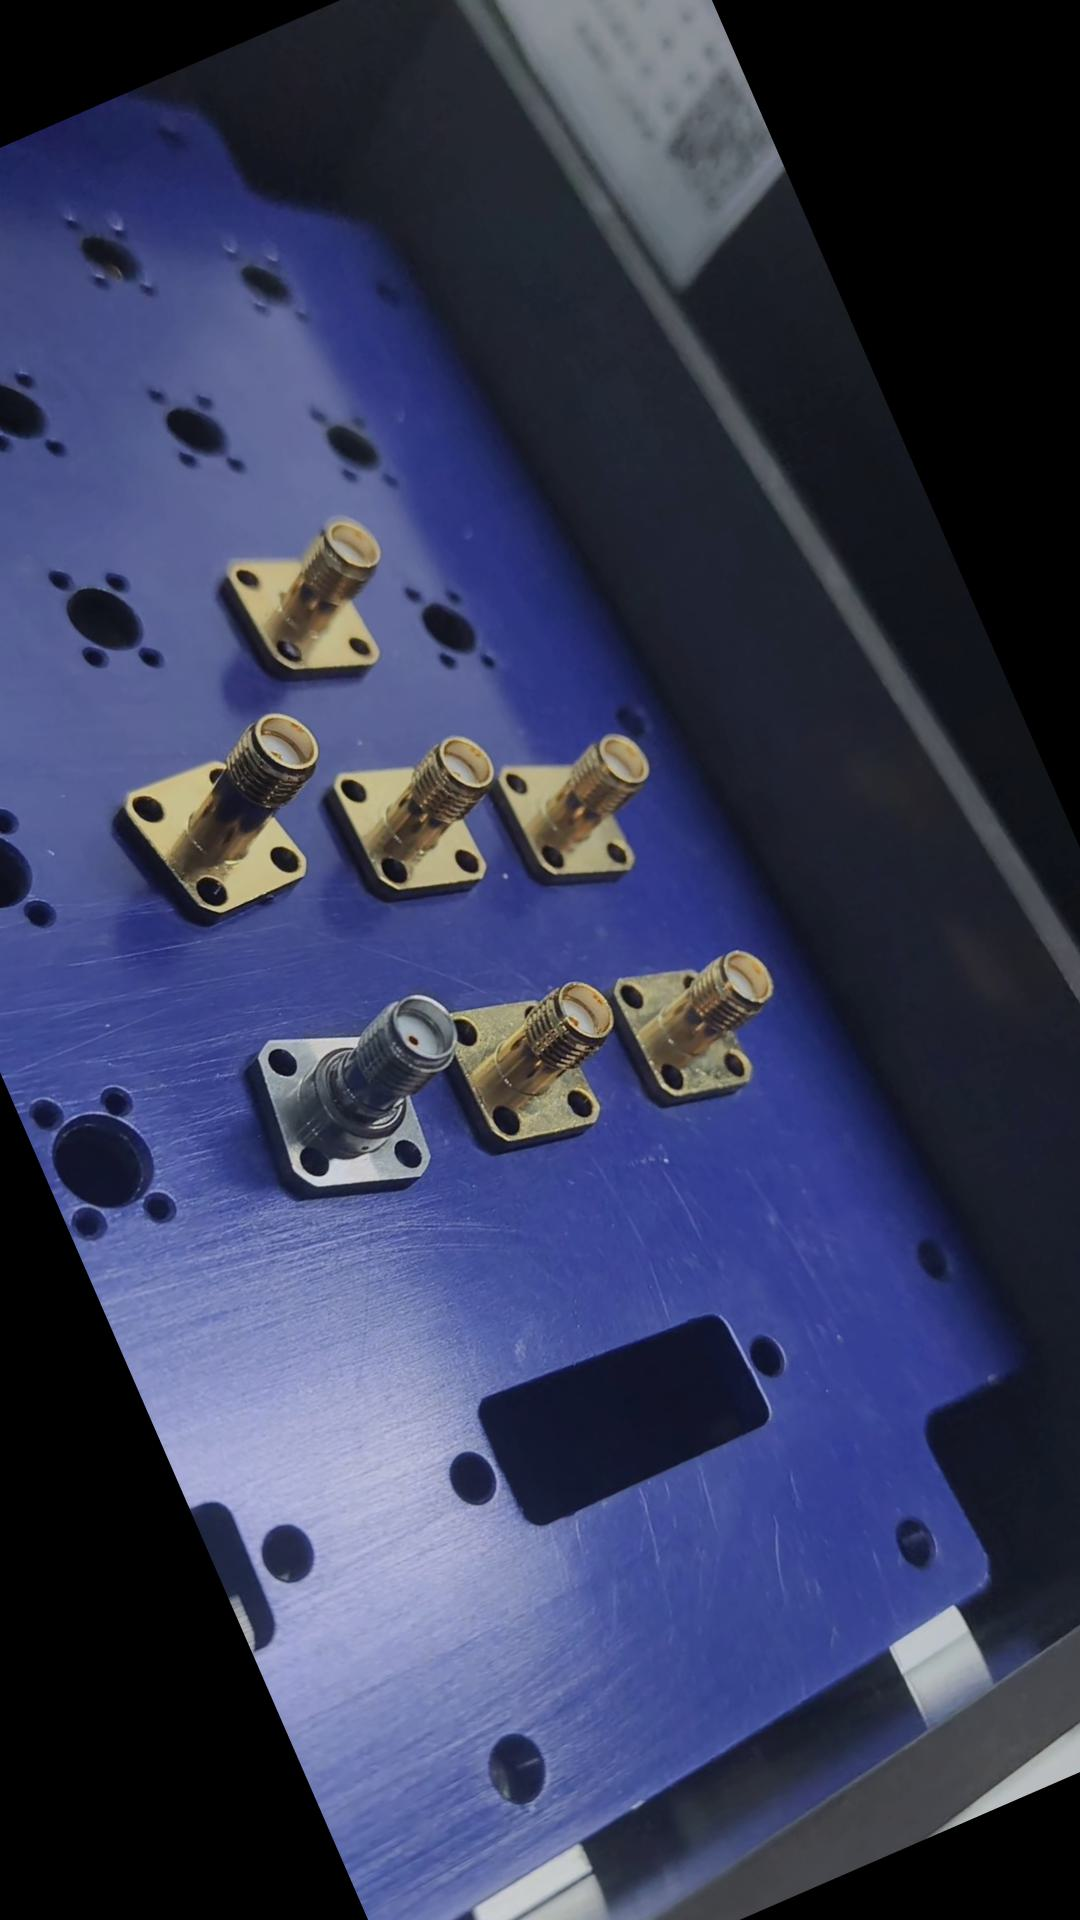SMA: (225, 969, 502, 1232), (102, 696, 363, 940), (434, 953, 651, 1168), (595, 916, 811, 1130), (320, 716, 535, 922), (211, 502, 421, 704), (484, 712, 684, 909)
